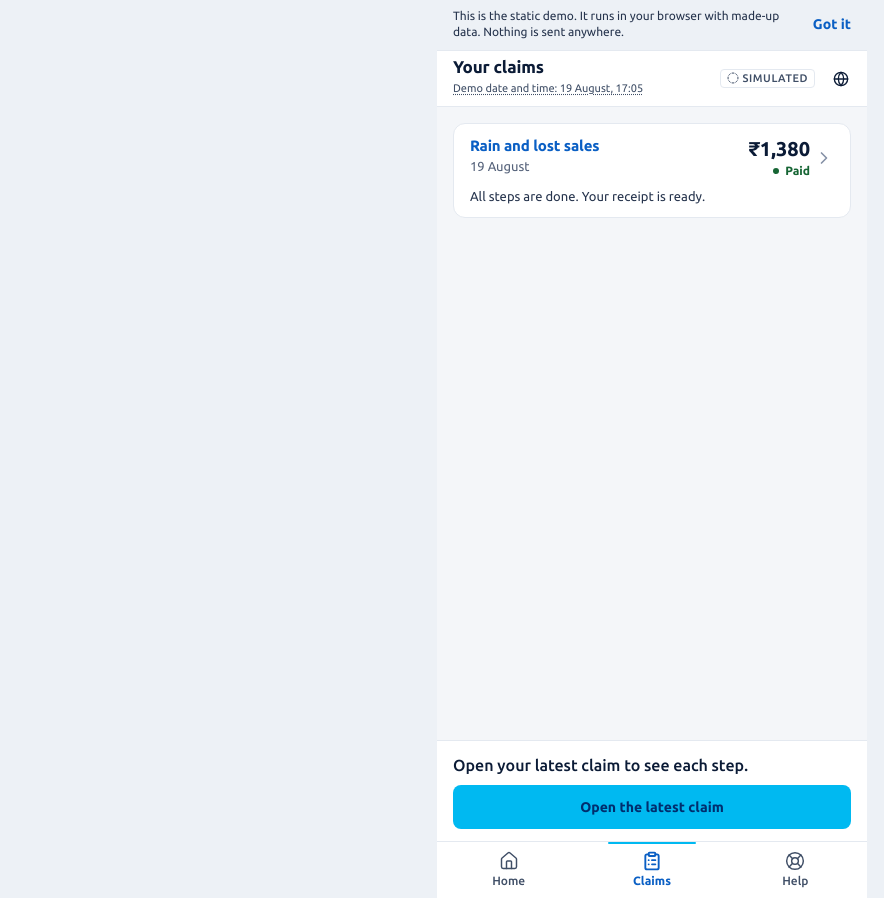
Scenario: Claims on a paid day › opens the claim from the card and says open_latest next
Step 1. Click the link "Rain and lost sales" → (535, 146), box [470,137,599,154]
(page scrolled)
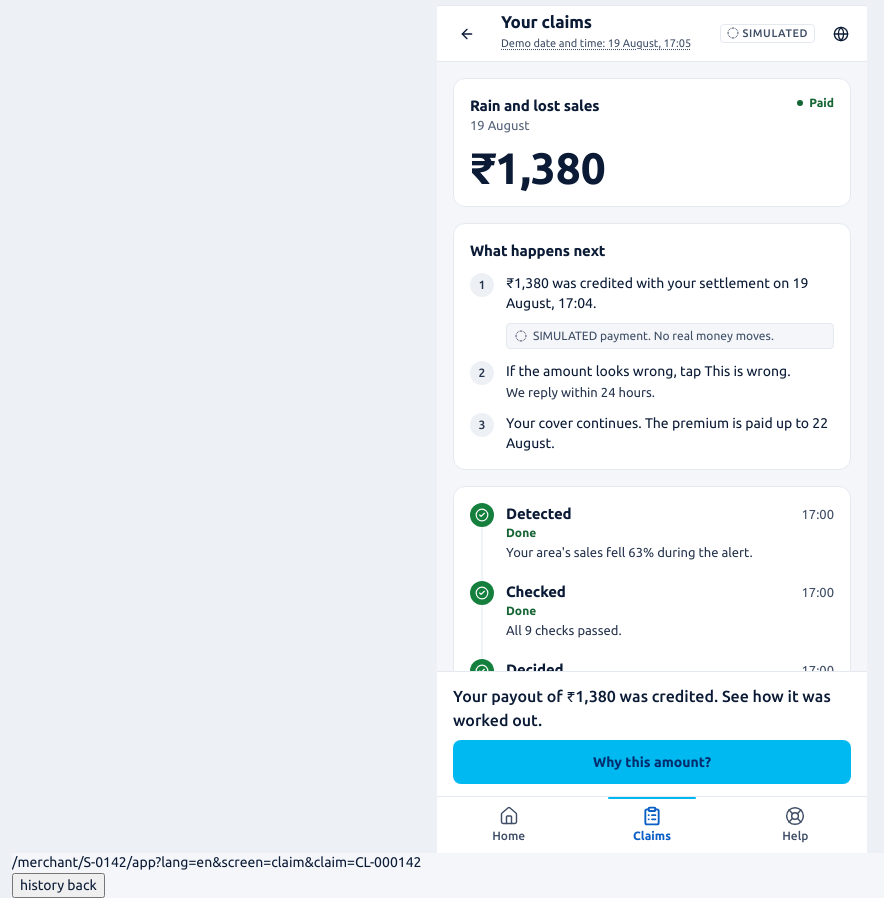
Check: the text with test id "probe-location" reads "/merchant/S-0142/app?lang=en&screen=claim&claim=CL-000142", box [12,854,422,870]
